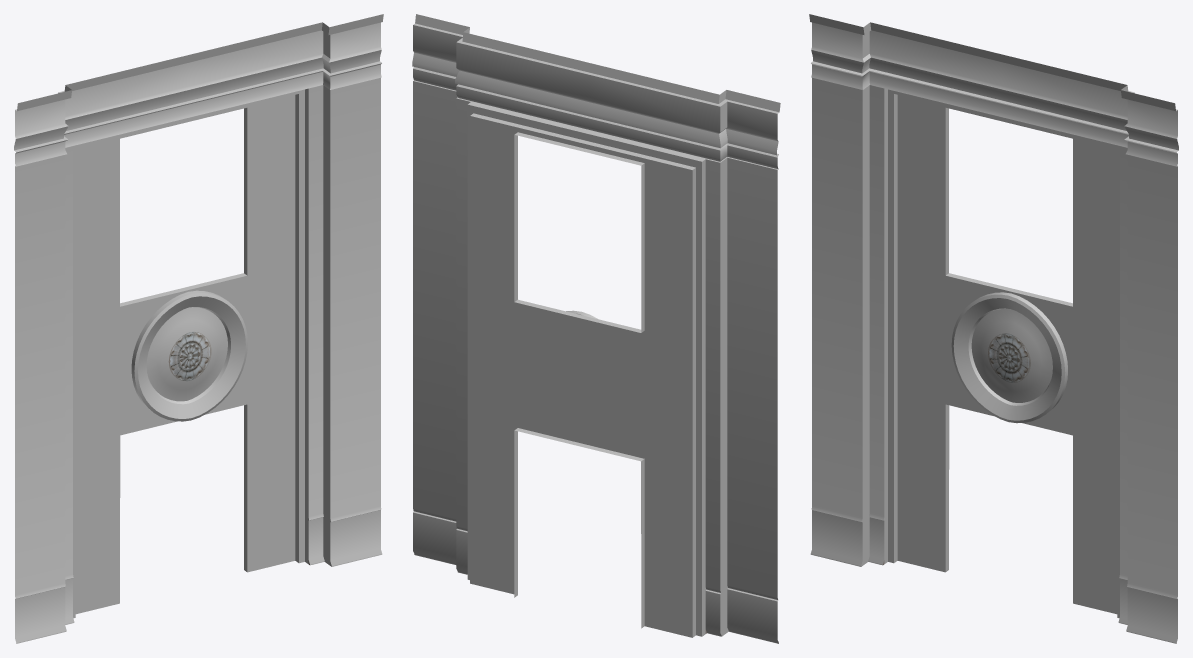
The model's file is Wall_Lrg_2.FBX.
3 views of the same model, side by side, from view 1: azimuth 30°, elevation 25°; view 2: azimuth 150°, elevation 25°; view 3: azimuth 330°, elevation 25° (orthographic).
Visible parts, largest first — view 1: Wall_Lrg_2; view 2: Wall_Lrg_2; view 3: Wall_Lrg_2.
Part boxes in pixels (x1,y1,x2,y2): Wall_Lrg_2: [14, 14, 383, 643]; Wall_Lrg_2: [412, 14, 780, 643]; Wall_Lrg_2: [809, 14, 1178, 643].
Size of the model in its own units: 6 by 8.49 by 0.5855.
